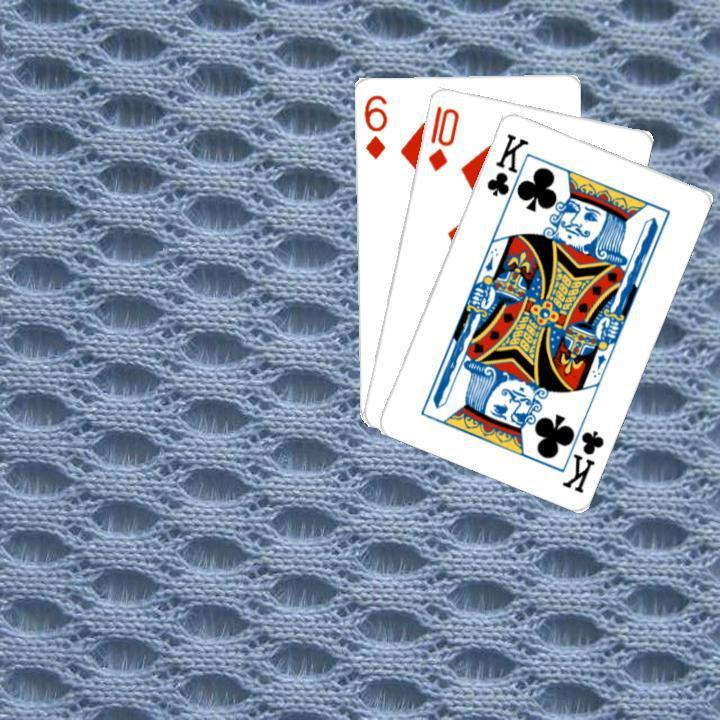10: (423, 101, 461, 173)
6: (359, 89, 388, 161)
K: (554, 412, 606, 495), (482, 128, 533, 210)
